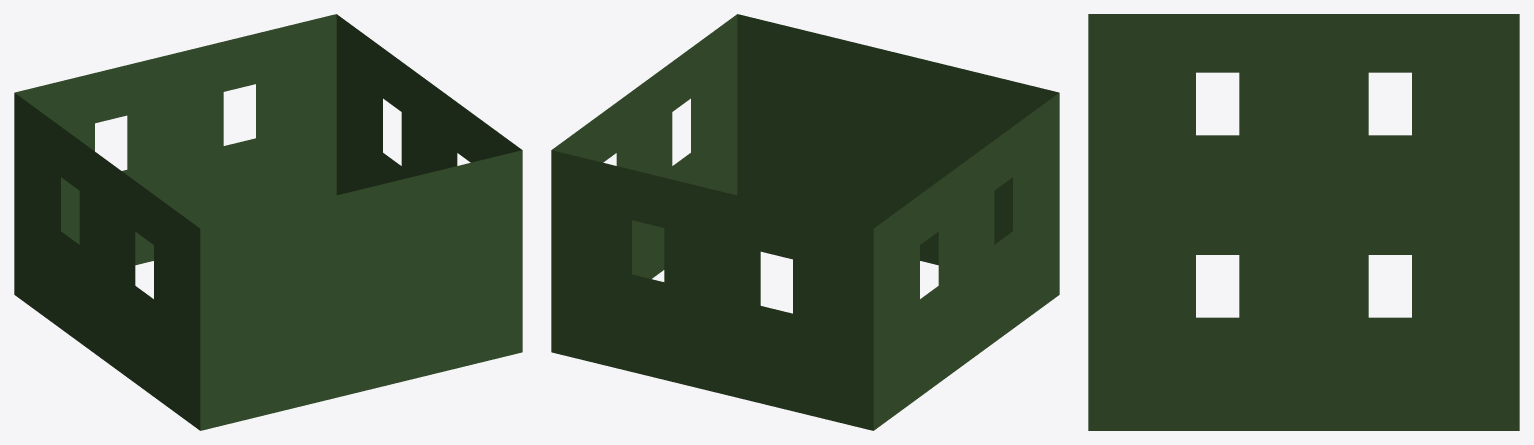
The model's file is mini_game_walls.fbx.
3 renders of one model, left to right at view 1: azimuth 30°, elevation 25°; view 2: azimuth 150°, elevation 25°; view 3: azimuth 270°, elevation 25°, orthographic. The views are drawn at different scales.
Parts seen in each view (by area): view 1: Mini-Game Walls; view 2: Mini-Game Walls; view 3: Mini-Game Walls.
Boxes of the visible parts, left/top/right/bottom form: Mini-Game Walls: left=14, top=14, right=522, bottom=430; Mini-Game Walls: left=551, top=14, right=1059, bottom=430; Mini-Game Walls: left=1088, top=14, right=1519, bottom=430.
Size of the model in its own units: 500 by 300 by 500.
